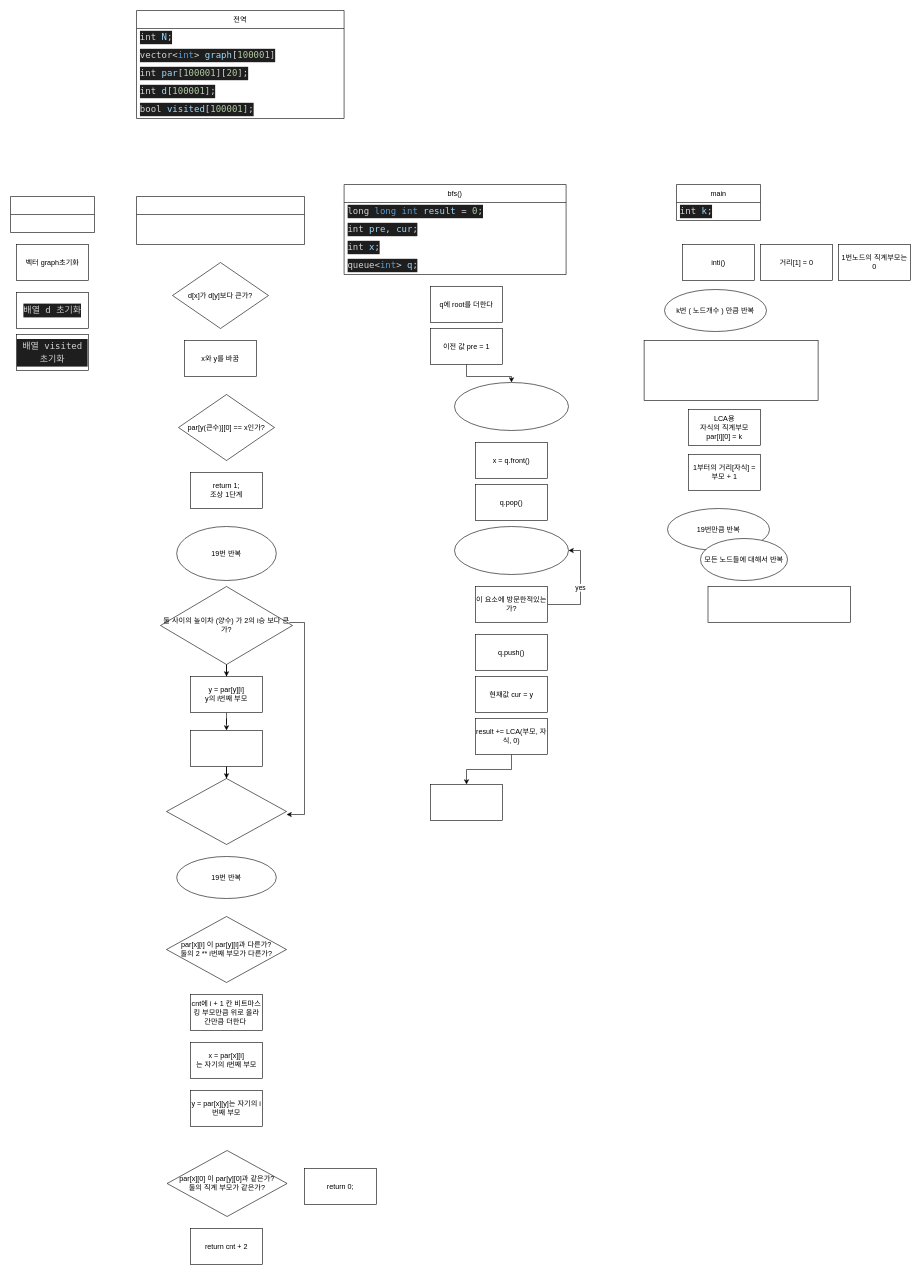
This 921x1275 diagram has some shape labels left out. Here are the shapes that lost their labels. From the top down, the centre of each, then its label:
At point (52, 214): "init".
At point (220, 220): "int LCA ( int x , int y , int cnt )".
At point (731, 370): "graph[부모].push_back(자식)".
At point (511, 406): "q가 있을동안 반복".
At point (511, 550): "graph[x]의 모든 요소들에 대해 반복".
At point (778, 604): "x의 2 ** y번째 부모는 x의 2 ** y - 1번째 부모의 2 ** y - 1번째 부모와 같다.".
At point (226, 748): "cnt에 올라간만큼 더한다 더한다?".
At point (226, 811): "par[y][0] 이 par[x][0]과 다른가? 둘의 직계부모가 다른가?".
At point (466, 802): "return result".
